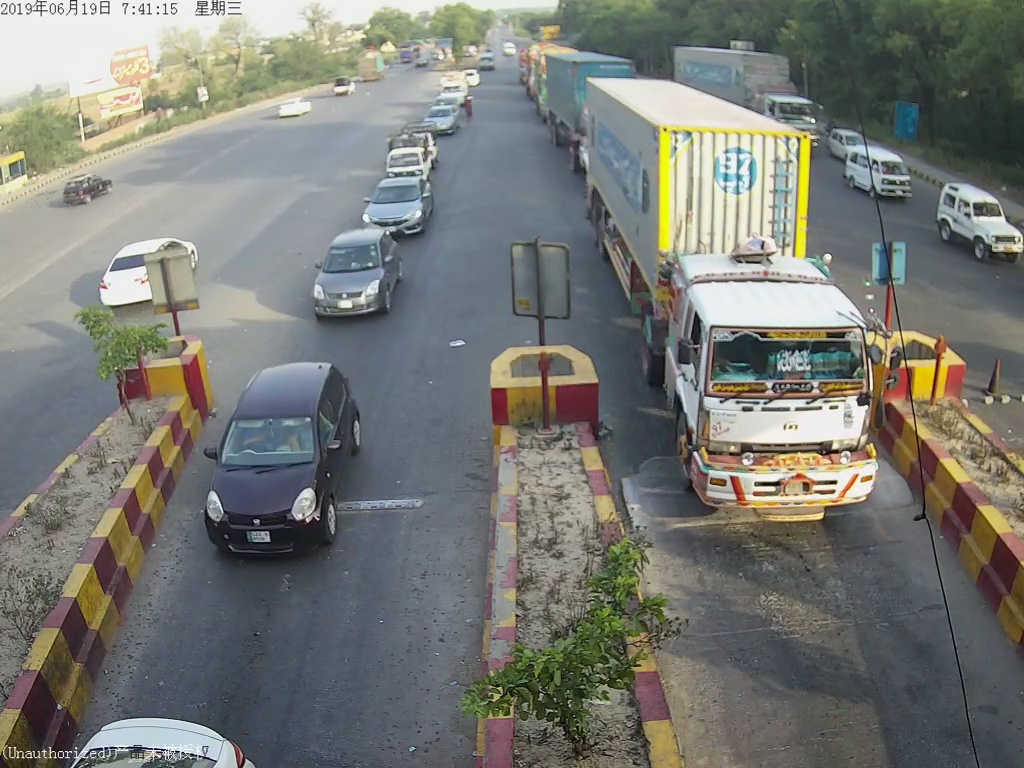Cat-1: (204, 371, 373, 561), (295, 229, 406, 331), (360, 175, 434, 231)
Cat-5: (570, 78, 894, 512)
